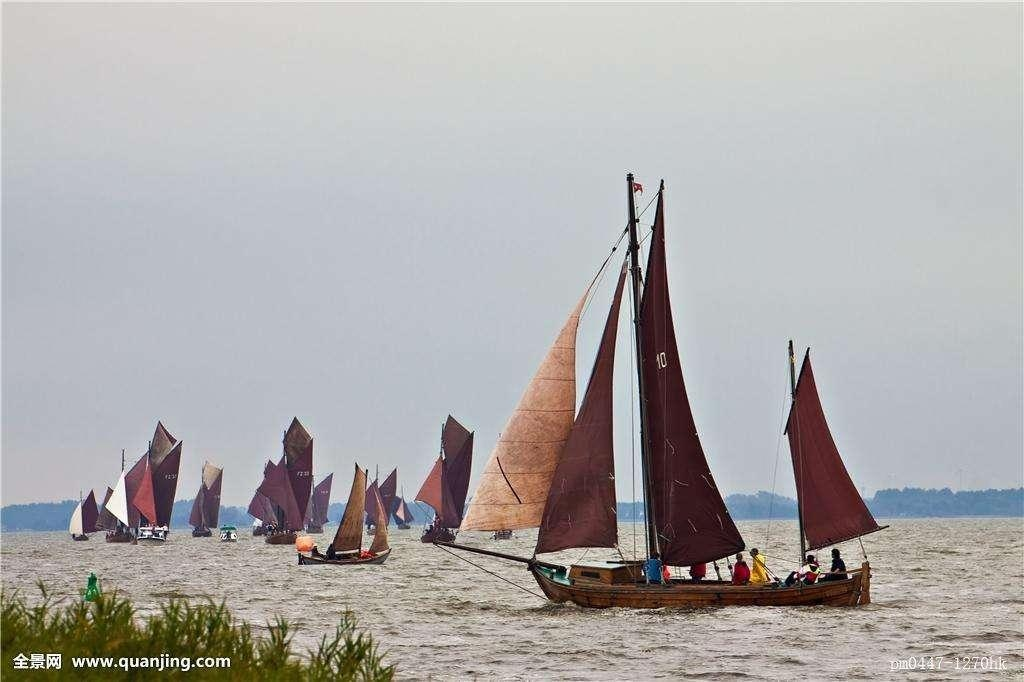fanchuan: (431, 170, 919, 609), (294, 466, 393, 570), (413, 409, 481, 547), (253, 415, 317, 545), (134, 421, 186, 548), (184, 460, 229, 540), (103, 464, 144, 544), (65, 487, 103, 545)
